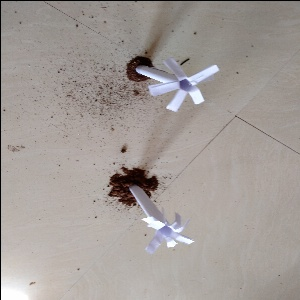weed: (112, 163, 197, 252), (127, 48, 217, 116)
